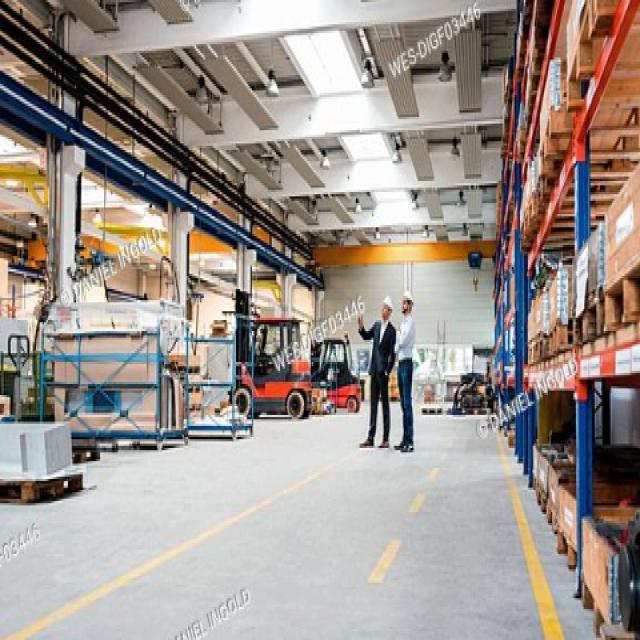boots: (358, 436, 390, 451), (394, 439, 416, 454)
helmet: (401, 289, 415, 315), (382, 296, 394, 322)
